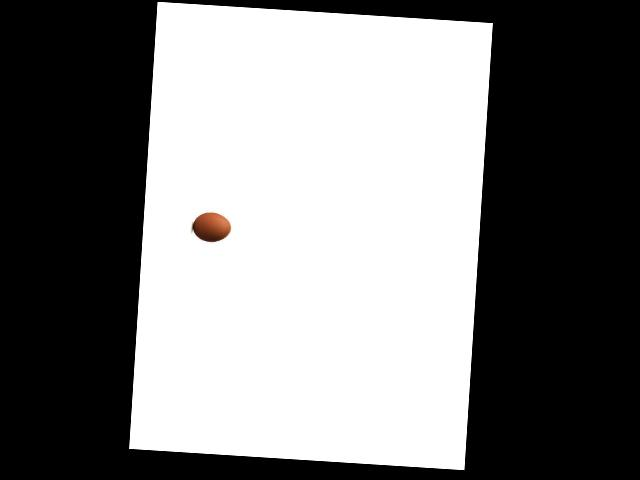egg: (191, 212, 231, 243)
